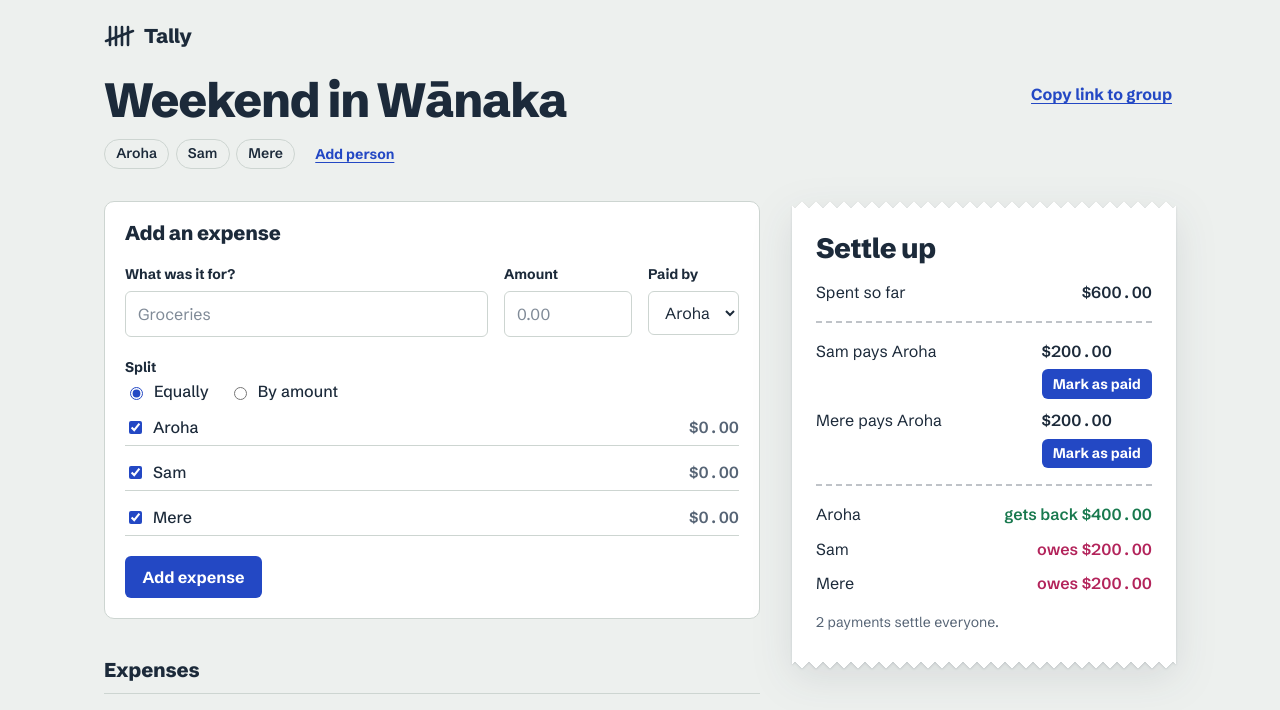
Group page › records a suggested payment and refreshes the balances
Click the 1st button "Mark as paid". click: (1097, 384)
box: [1042,369,1152,399]
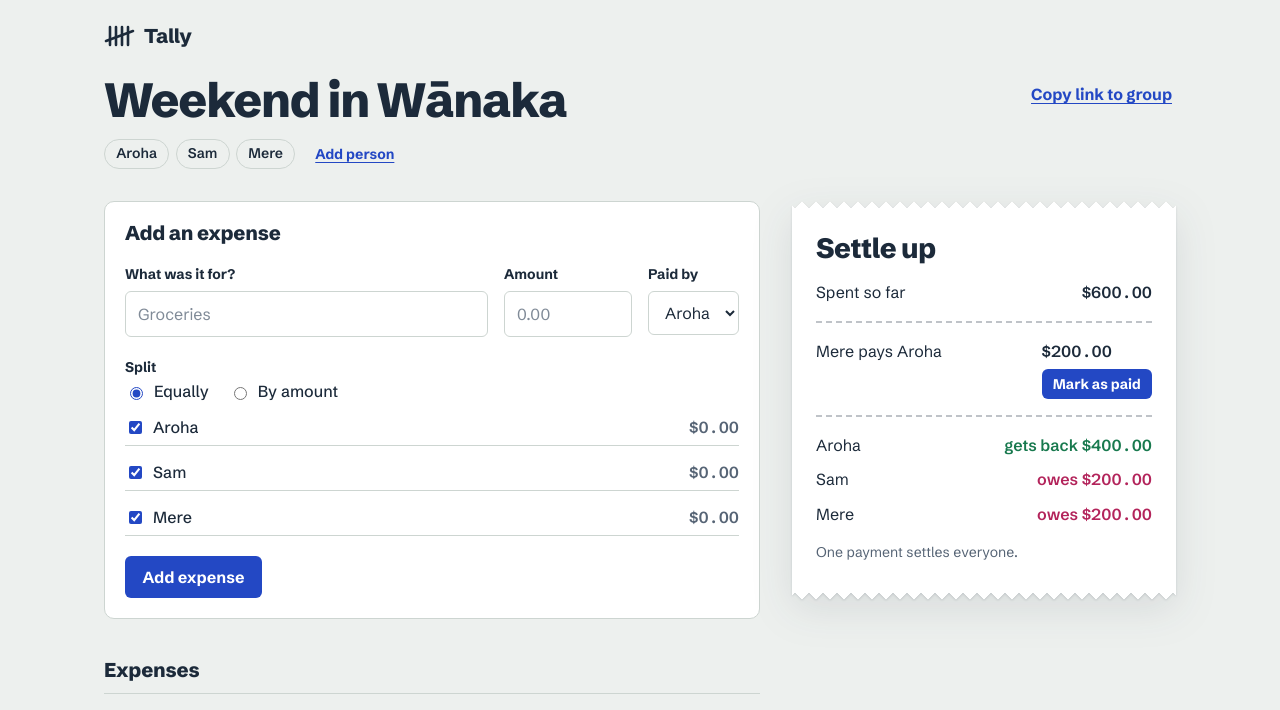
Expected: the text "One payment settles everyone." is shown, [816,543,1018,561]
